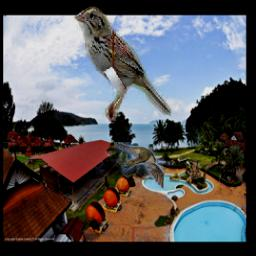Cuckoo: (114, 142, 164, 188)
Sparrow: (74, 6, 172, 121)
